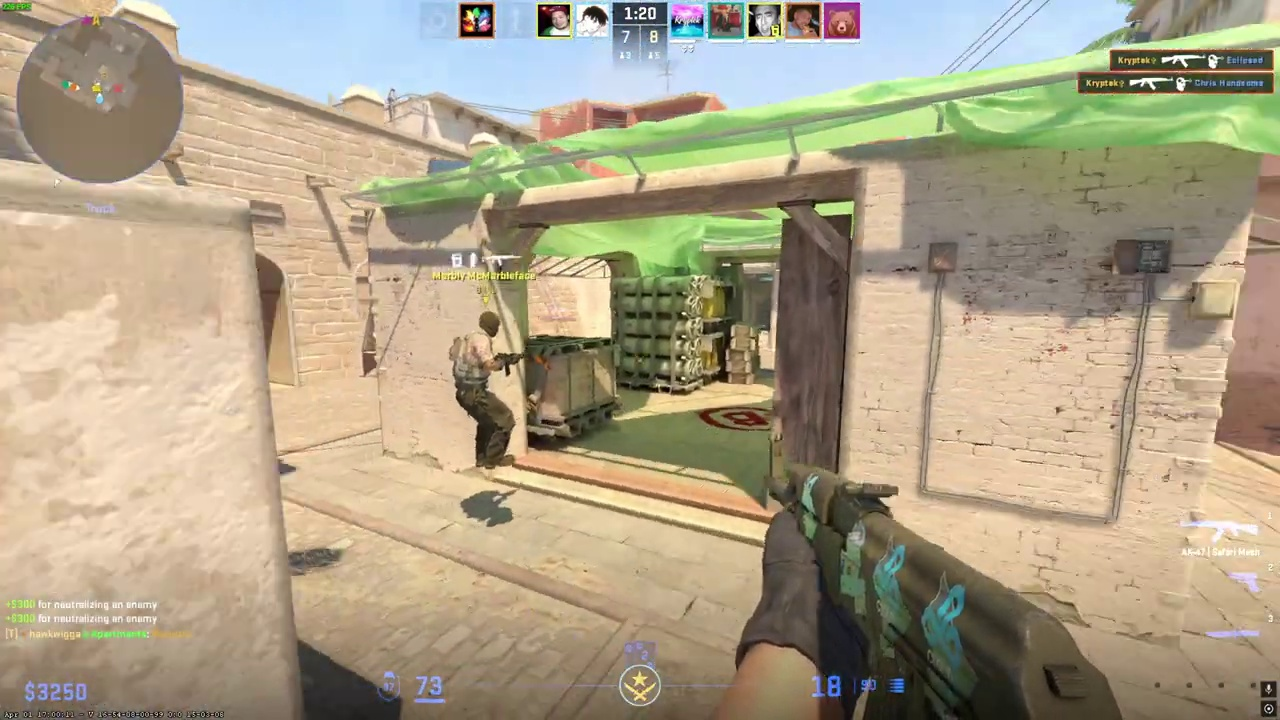Terrorist: (450, 309, 523, 474)
